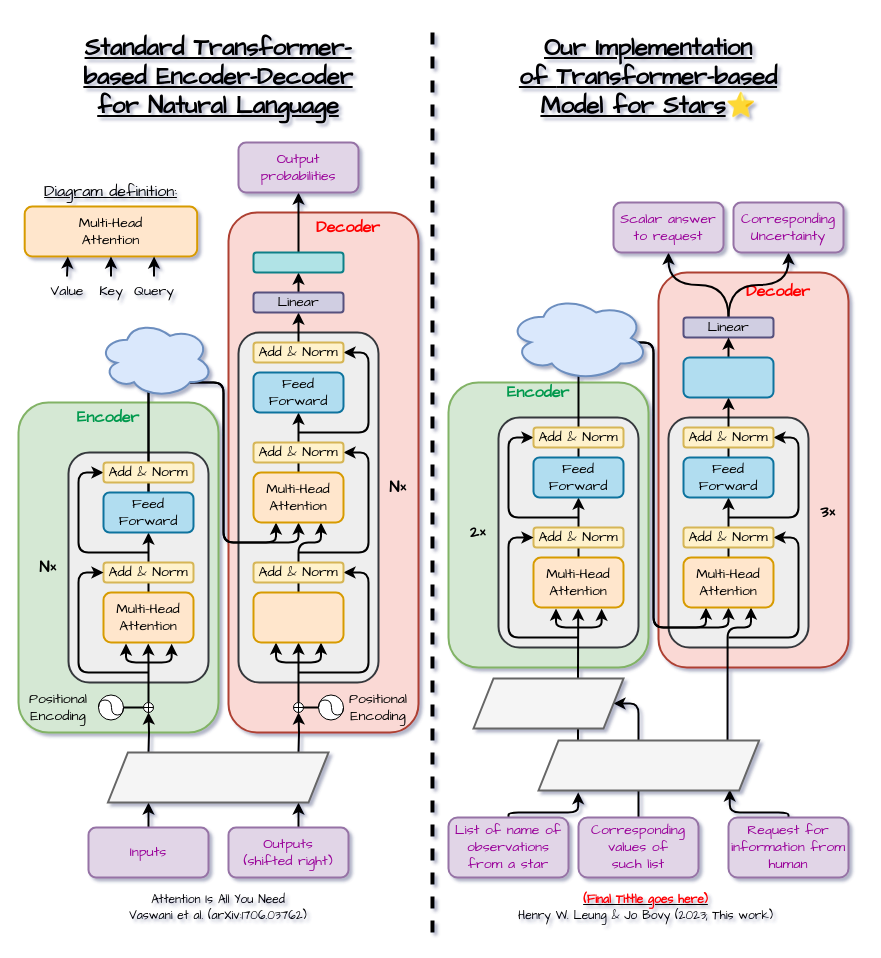
Image size: 881x958. Some labels were removed from this diagram. Each missing label, with the centre of its shape:
Feed Forwards: the point at 728,377
Masked Multi-Head Attention: the point at 298,617
Non-linear Embedding: the point at 548,703
Observation / Request Embedding: the point at 648,765
Sentence Context: the point at 155,358
Softmax: the point at 298,262
Star ⭐ Context: the point at 578,337
Word Embedding: the point at 217,777
